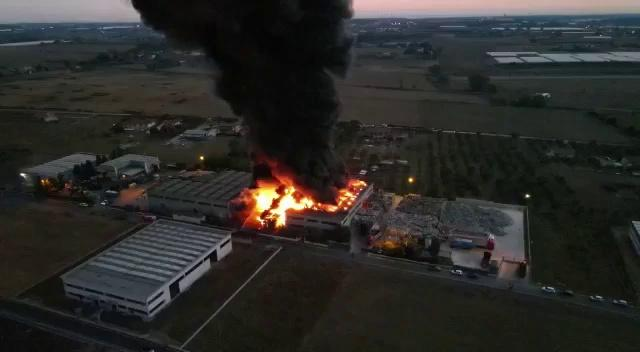fire: (255, 188, 311, 221)
smoke: (234, 1, 341, 115)
